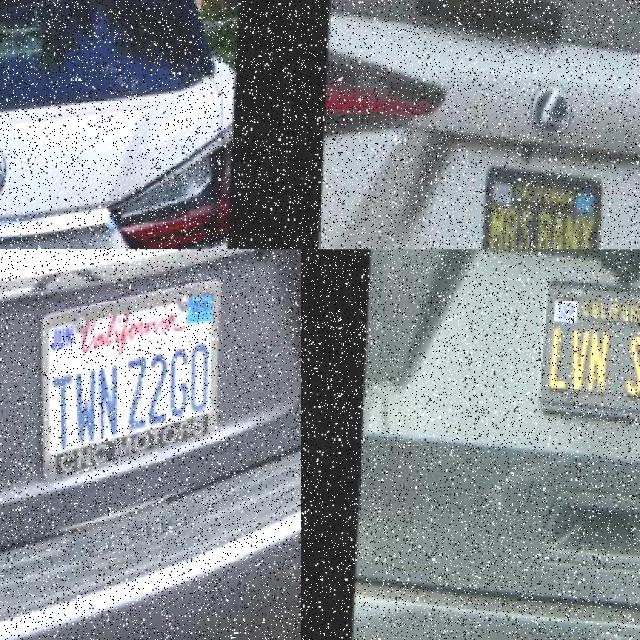licenseplate: (37, 292, 237, 468), (541, 273, 640, 418), (484, 165, 602, 249)
